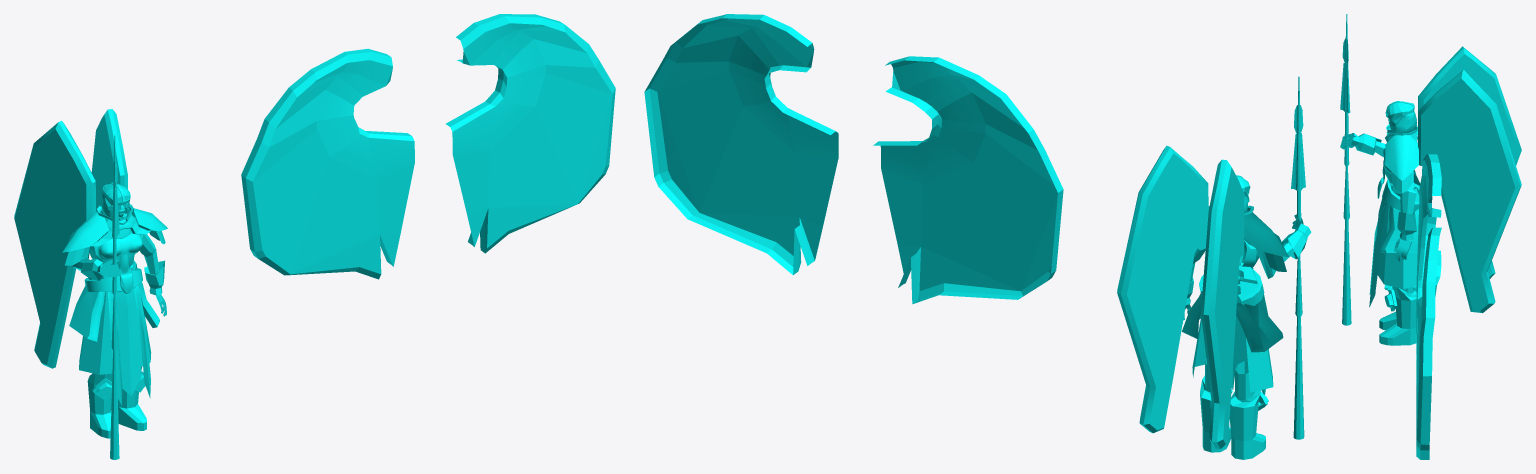
Rendered from angel.fbx.
The picture shows the model from 3 angles, left to right: view 1: azimuth 30°, elevation 25°; view 2: azimuth 150°, elevation 25°; view 3: azimuth 270°, elevation 25°; orthographic projection. The views are drawn at different scales.
Visible parts, largest first — view 1: polySurface289, polySurface290, polySurface287, polySurface288, pCylinder54, pPlane76, pCylinder67, pCylinder55, pCylinder70, Angel_pCylinder49_pCylinder49, pCylinder57, pCylinder59 (+4 smaller); view 2: polySurface290, polySurface289, polySurface288, polySurface287, pCylinder70, pCylinder67, pCylinder55, pCylinder59, pPlane76, pCylinder71, polySurface242, pCylinder52; view 3: polySurface288, polySurface290, polySurface287, polySurface289, pCylinder67, pCylinder71, pPlane76, pCylinder55, pCylinder53, pCylinder44, pCylinder58, pCylinder57 (+7 smaller).
Part boxes in pixels (x1,y1,x2,y2): polySurface289: (241, 48, 414, 279); polySurface290: (446, 14, 615, 253); polySurface287: (14, 120, 95, 368); polySurface288: (91, 109, 127, 220); pCylinder54: (111, 287, 141, 396); pPlane76: (62, 208, 167, 265); pCylinder67: (110, 135, 119, 459); pCylinder55: (79, 284, 151, 374); pCylinder70: (87, 373, 112, 438); Angel_pCylinder49_pCylinder49: (95, 228, 142, 294); pCylinder57: (108, 285, 150, 405); pCylinder59: (69, 286, 105, 341); polySurface290: (644, 14, 838, 274); polySurface289: (873, 56, 1063, 304); polySurface288: (1117, 145, 1208, 433); polySurface287: (1201, 159, 1244, 448); pCylinder70: (1229, 361, 1268, 459); pCylinder67: (1291, 76, 1305, 439); pCylinder55: (1192, 286, 1273, 392); pCylinder59: (1236, 294, 1283, 352); pPlane76: (1208, 206, 1289, 271); pCylinder71: (1200, 358, 1232, 452); polySurface242: (1256, 223, 1311, 278); pCylinder52: (1201, 241, 1259, 303); polySurface288: (1418, 70, 1521, 313); polySurface290: (1416, 227, 1441, 459); polySurface287: (1417, 46, 1521, 278); polySurface289: (1416, 154, 1441, 384); pCylinder67: (1340, 14, 1351, 325); pCylinder71: (1379, 286, 1416, 345); pPlane76: (1385, 126, 1418, 192); pCylinder55: (1377, 187, 1417, 289); pCylinder53: (1397, 171, 1416, 240); pCylinder44: (1385, 101, 1416, 133); pCylinder58: (1380, 205, 1418, 253); pCylinder57: (1369, 203, 1386, 307).
Size of the model in its own units: 302 by 165 by 88.
